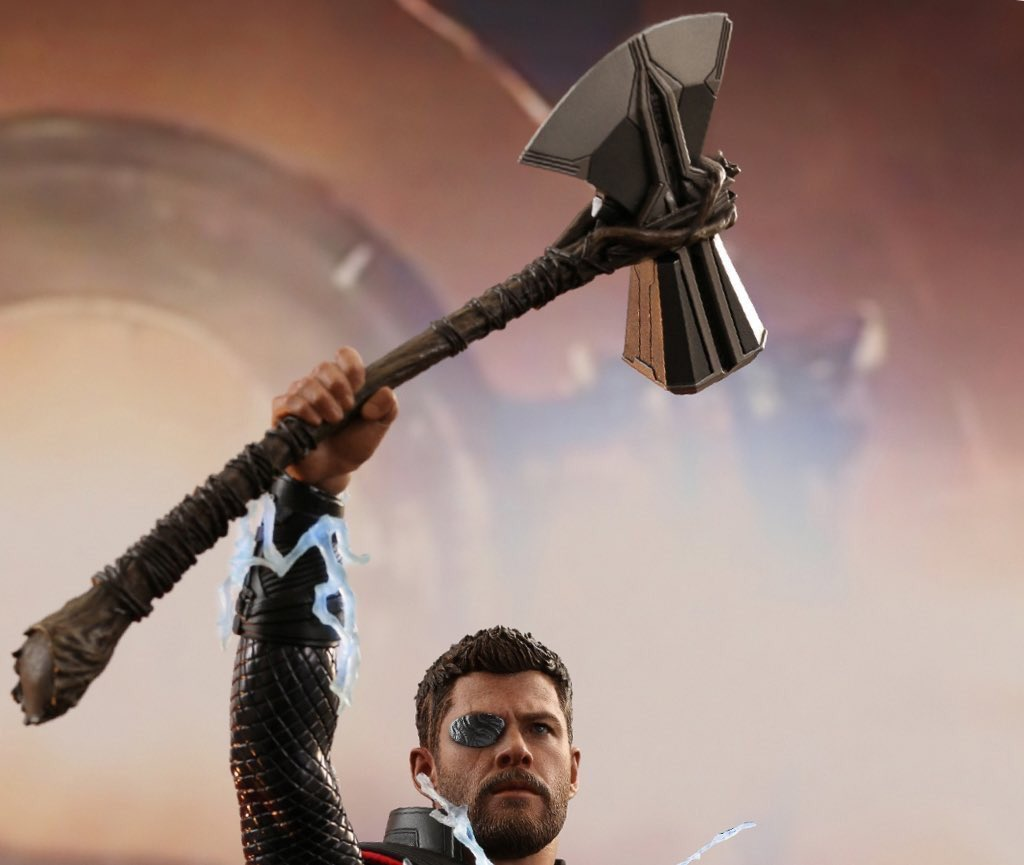THOR Hammer: (21, 17, 819, 722), (448, 368, 537, 381)
